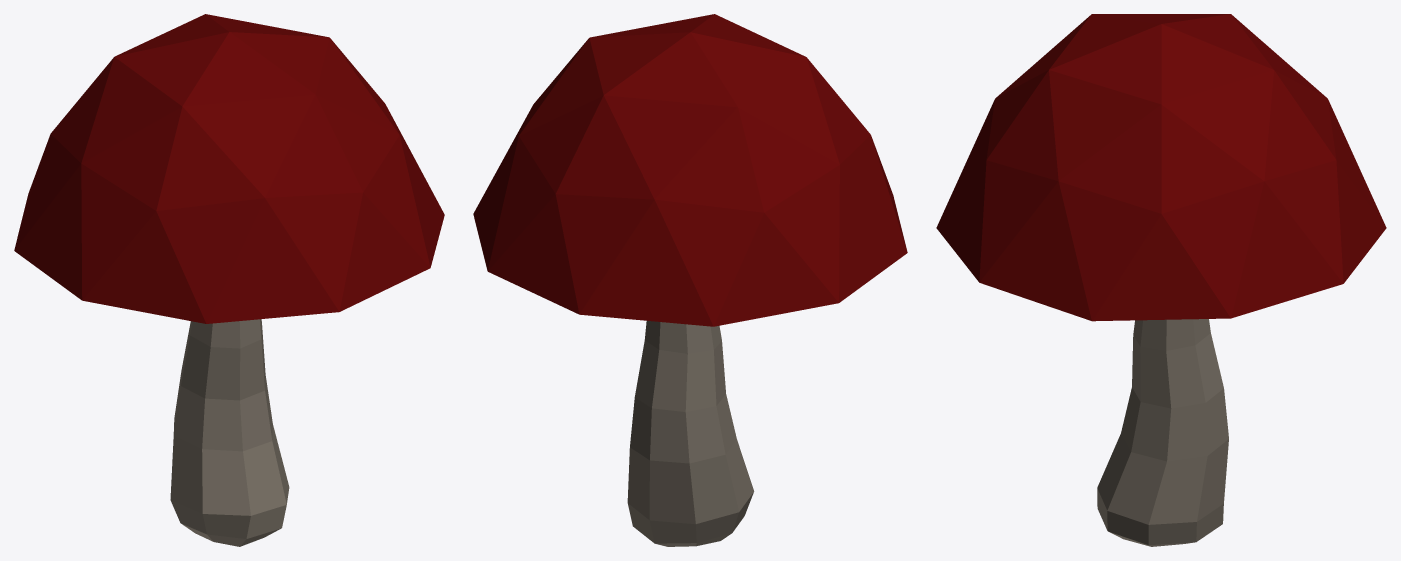
The model's file is mushroom-5.glb.
The picture shows the model from 3 angles, left to right: view 1: azimuth 30°, elevation 25°; view 2: azimuth 150°, elevation 25°; view 3: azimuth 270°, elevation 25°; orthographic projection. The views are drawn at different scales.
Parts seen in each view (by area): view 1: Mushroom 4; view 2: Mushroom 4; view 3: Mushroom 4.
Part boxes in pixels (x1=…): Mushroom 4: x1=14, y1=14, x2=444, y2=546; Mushroom 4: x1=473, y1=14, x2=907, y2=546; Mushroom 4: x1=936, y1=14, x2=1386, y2=546.
Size of the model in its own units: 1.24 by 1.62 by 1.3.
